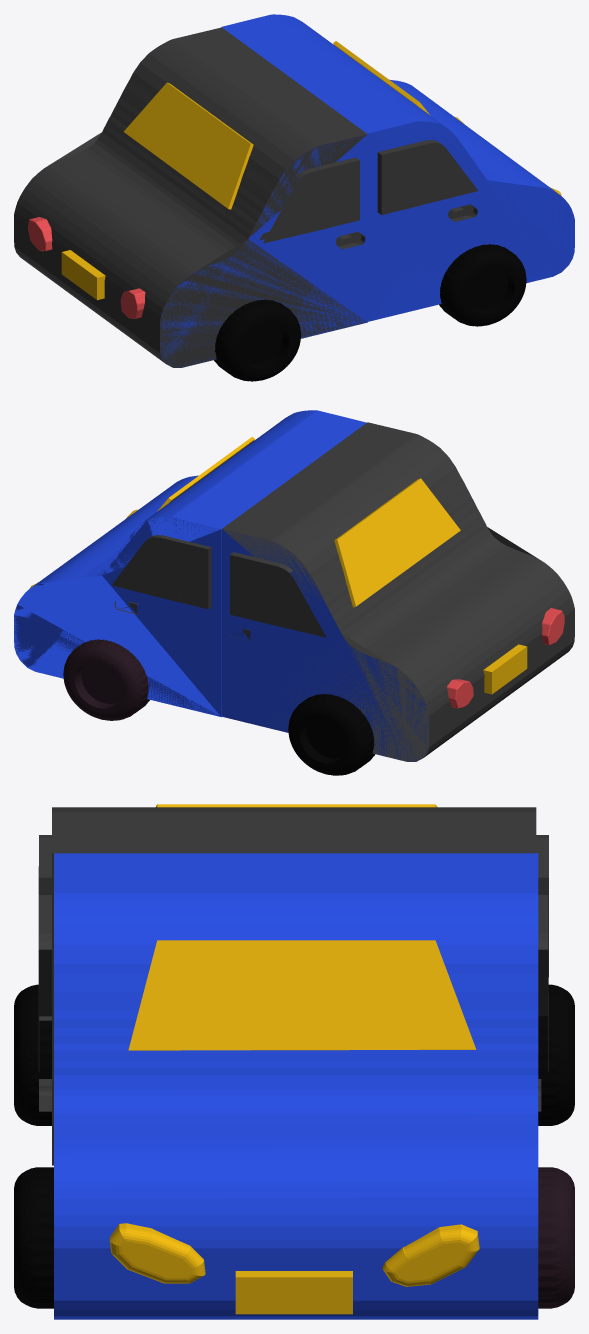
File: car.fbx
3 renders of one model, top to bottom at view 1: azimuth 30°, elevation 25°; view 2: azimuth 150°, elevation 25°; view 3: azimuth 270°, elevation 25°, orthographic. The views are drawn at different scales.
Parts seen in each view (by area): view 1: 큐브.006; view 2: 큐브.006; view 3: 큐브.006.
Boxes of the visible parts, box(x1,y1,x2,y2) form: 큐브.006: box(14, 14, 574, 381); 큐브.006: box(14, 410, 574, 775); 큐브.006: box(14, 804, 574, 1319).
Size of the model in its own units: 117 by 55.79 by 79.6.
